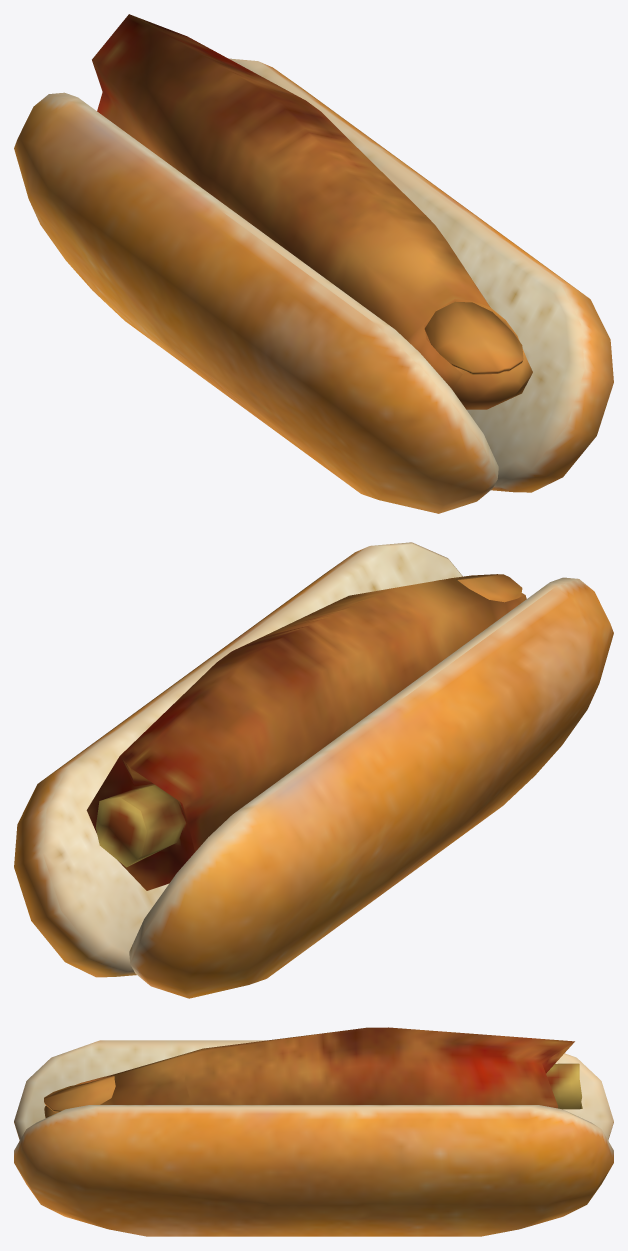
File: human_hotdog_1.fbx
The picture shows the model from 3 angles, top to bottom: view 1: azimuth 30°, elevation 25°; view 2: azimuth 150°, elevation 25°; view 3: azimuth 270°, elevation 25°; orthographic projection. The views are drawn at different scales.
Visible parts, largest first — view 1: human_hotdog_1; view 2: human_hotdog_1; view 3: human_hotdog_1.
Boxes of the visible parts, left/top/right/bottom form: human_hotdog_1: left=14, top=14, right=613, bottom=513; human_hotdog_1: left=14, top=542, right=613, bottom=998; human_hotdog_1: left=14, top=1027, right=613, bottom=1236.
Size of the model in its own units: 7.19 by 6.21 by 18.
